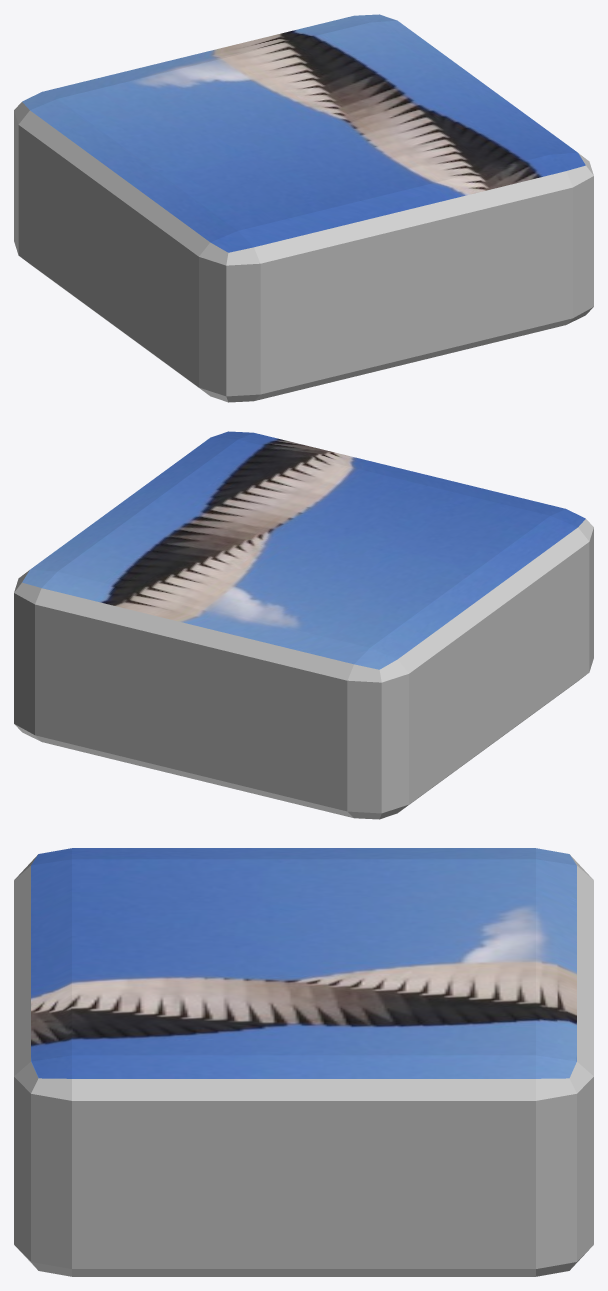
Rendered from peça15.obj.
3 views of the same model, one above another, from view 1: azimuth 30°, elevation 25°; view 2: azimuth 150°, elevation 25°; view 3: azimuth 270°, elevation 25° (orthographic). The views are drawn at different scales.
Visible parts, largest first — view 1: Cubo.006; view 2: Cubo.006; view 3: Cubo.006.
Boxes of the visible parts, bbox=[...] form: Cubo.006: bbox=[14, 14, 593, 402]; Cubo.006: bbox=[14, 431, 593, 819]; Cubo.006: bbox=[14, 848, 593, 1276].
Bounding box in the file's own units: 0.5 × 0.2 × 0.5.
